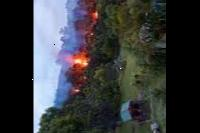fire: (55, 51, 96, 77), (77, 0, 101, 24)
